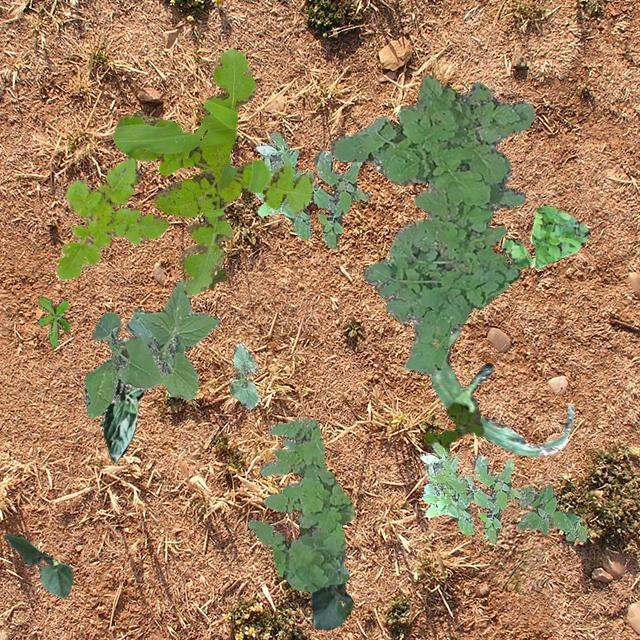crop: (429, 322, 574, 456), (296, 526, 352, 628), (100, 336, 142, 461), (2, 532, 72, 596), (228, 342, 258, 408)
weed: (328, 73, 534, 374), (112, 47, 314, 296), (82, 278, 220, 416), (246, 417, 354, 590), (54, 158, 168, 280), (254, 130, 370, 248), (418, 442, 524, 542), (500, 205, 590, 268), (514, 484, 586, 540), (423, 402, 482, 454), (36, 296, 68, 346), (208, 268, 225, 288)
